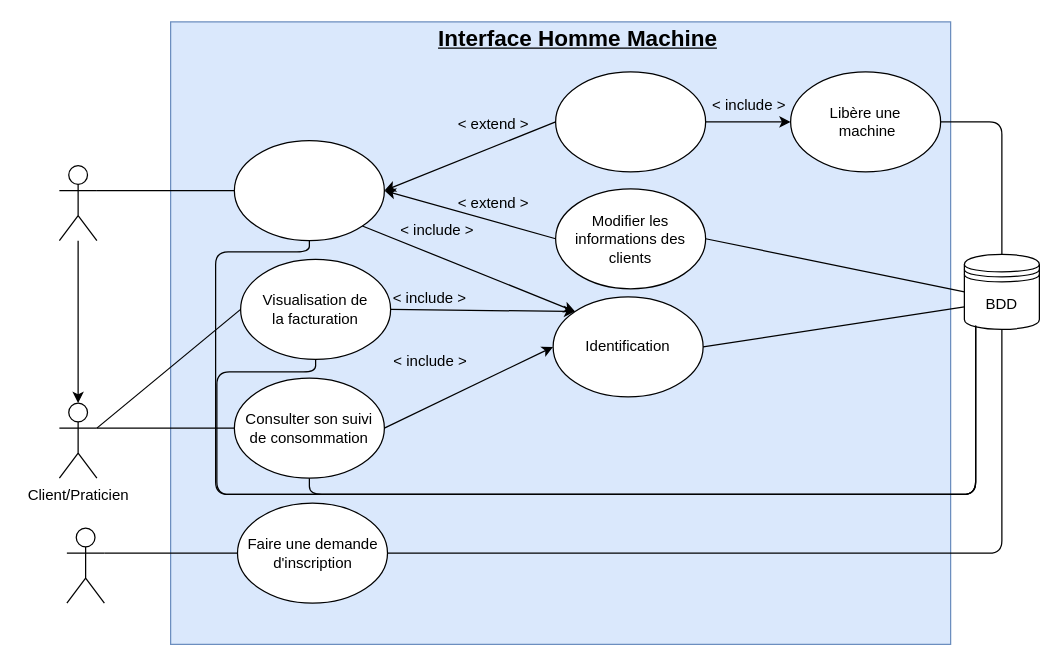
Some shapes in this 1061 by 666 pixel diagram are drawn without their labels. Each missing label, with the centre of its shape:
Administrateur: pixel 77 202
Consulter le suivi de consommation de tous les clients: pixel 308 190
Désabonner un client: pixel 630 121
Futur client/Visiteur: pixel 85 565
